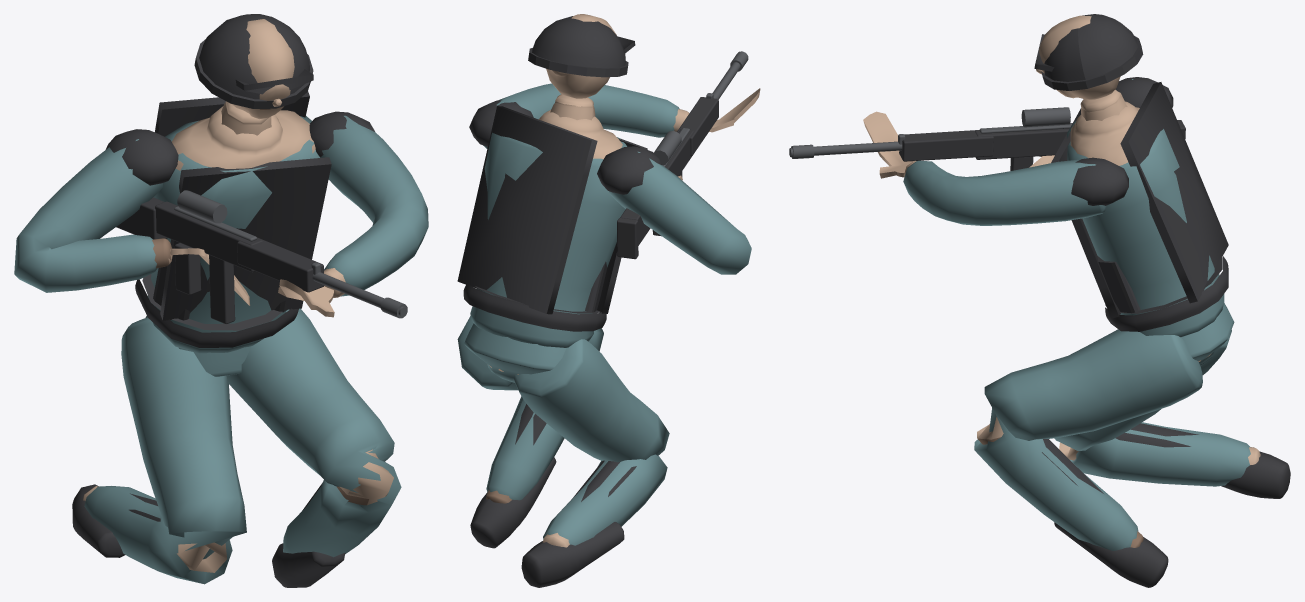
Rendered from tactical-shooter-hill-town-assault-trooper-crouch-aim-ba290269__27568.glb.
3 views of the same model, side by side, from view 1: azimuth 30°, elevation 25°; view 2: azimuth 150°, elevation 25°; view 3: azimuth 270°, elevation 25° (orthographic). The views are drawn at different scales.
Visible parts, largest first — view 1: assault-trooper-crouch-aim; view 2: assault-trooper-crouch-aim; view 3: assault-trooper-crouch-aim.
Boxes of the visible parts, left/top/right/bottom form: assault-trooper-crouch-aim: left=14, top=14, right=428, bottom=587; assault-trooper-crouch-aim: left=457, top=14, right=760, bottom=587; assault-trooper-crouch-aim: left=789, top=14, right=1290, bottom=587.
Size of the model in its own units: 0.8192 by 1.4 by 1.19.
